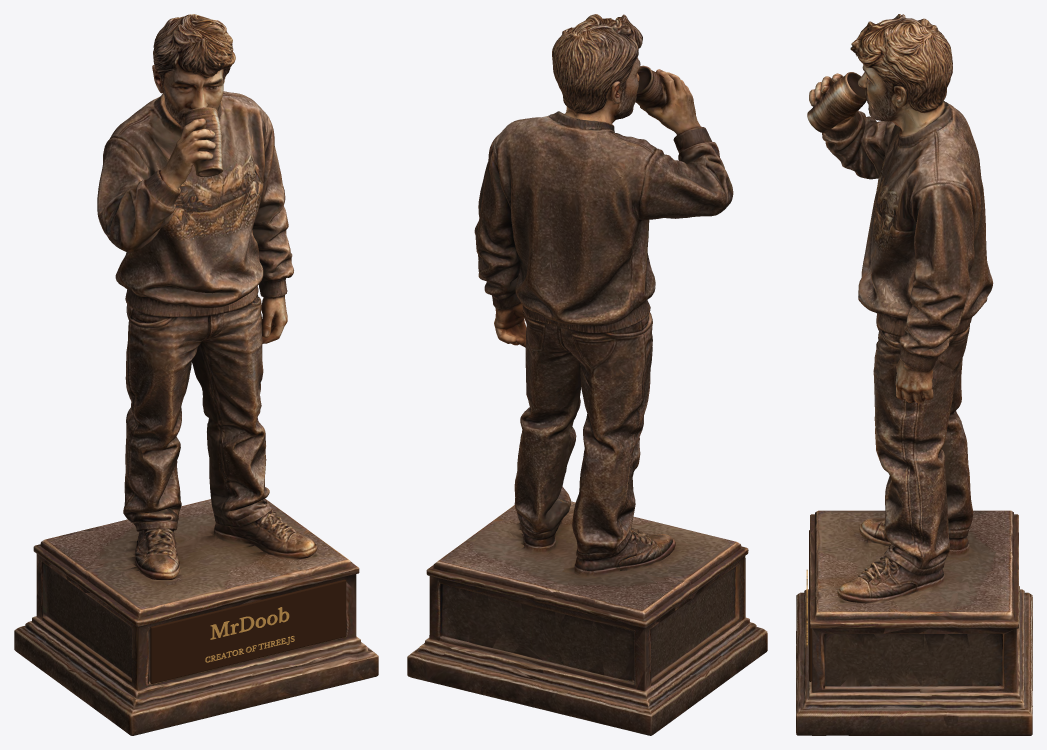
Rendered from mrdoob.glb.
The picture shows the model from 3 angles, left to right: view 1: azimuth 30°, elevation 25°; view 2: azimuth 150°, elevation 25°; view 3: azimuth 270°, elevation 25°; orthographic projection.
Parts seen in each view (by area): view 1: MrDoob statue with clean bronze inscription; view 2: MrDoob statue with clean bronze inscription; view 3: MrDoob statue with clean bronze inscription.
Boxes of the visible parts, x1=… form: MrDoob statue with clean bronze inscription: x1=14, y1=14, x2=378, y2=735; MrDoob statue with clean bronze inscription: x1=407, y1=14, x2=767, y2=735; MrDoob statue with clean bronze inscription: x1=796, y1=14, x2=1032, y2=735.
Size of the model in its own units: 0.3911 by 0.9792 by 0.3225.
Materials: 1 (1 with a texture image).
